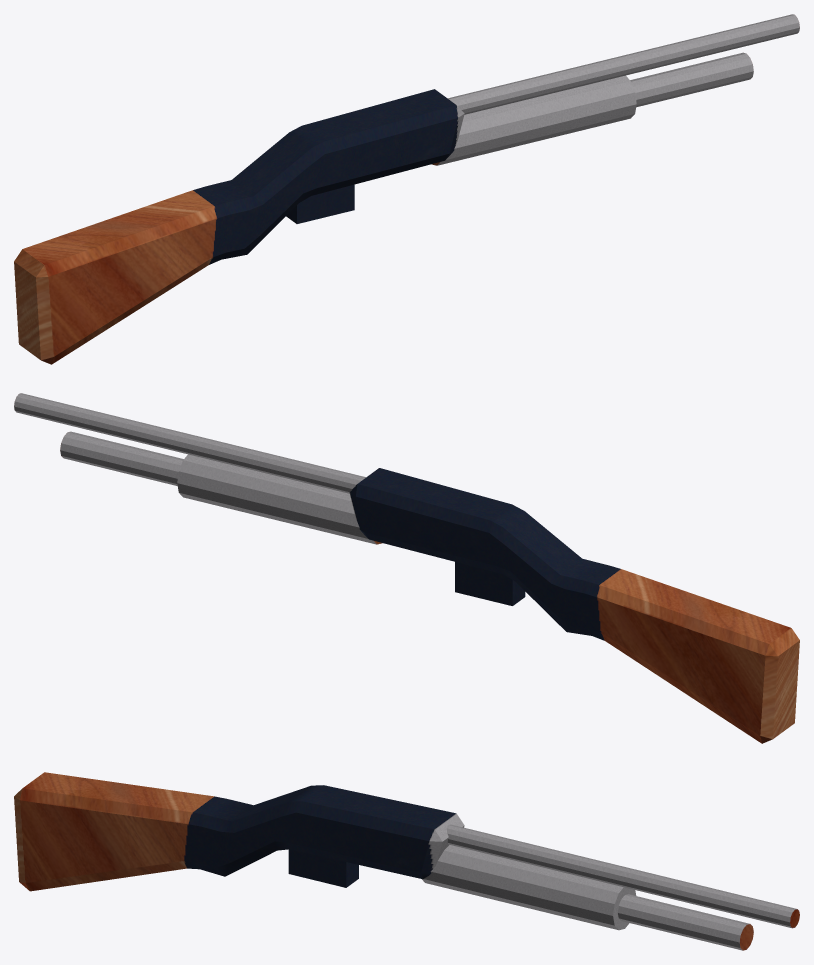
The model's file is shotgun_color.fbx.
3 renders of one model, top to bottom at view 1: azimuth 30°, elevation 25°; view 2: azimuth 150°, elevation 25°; view 3: azimuth 330°, elevation 25°, orthographic.
Visible parts, largest first — view 1: polySurface10; view 2: polySurface10; view 3: polySurface10.
Boxes of the visible parts, left/top/right/bottom form: polySurface10: left=14, top=14, right=799, bottom=364; polySurface10: left=14, top=393, right=799, bottom=743; polySurface10: left=14, top=772, right=799, bottom=950.
Size of the model in its own units: 10.05 by 2.01 by 0.6484.
1 material, 1 textured.
